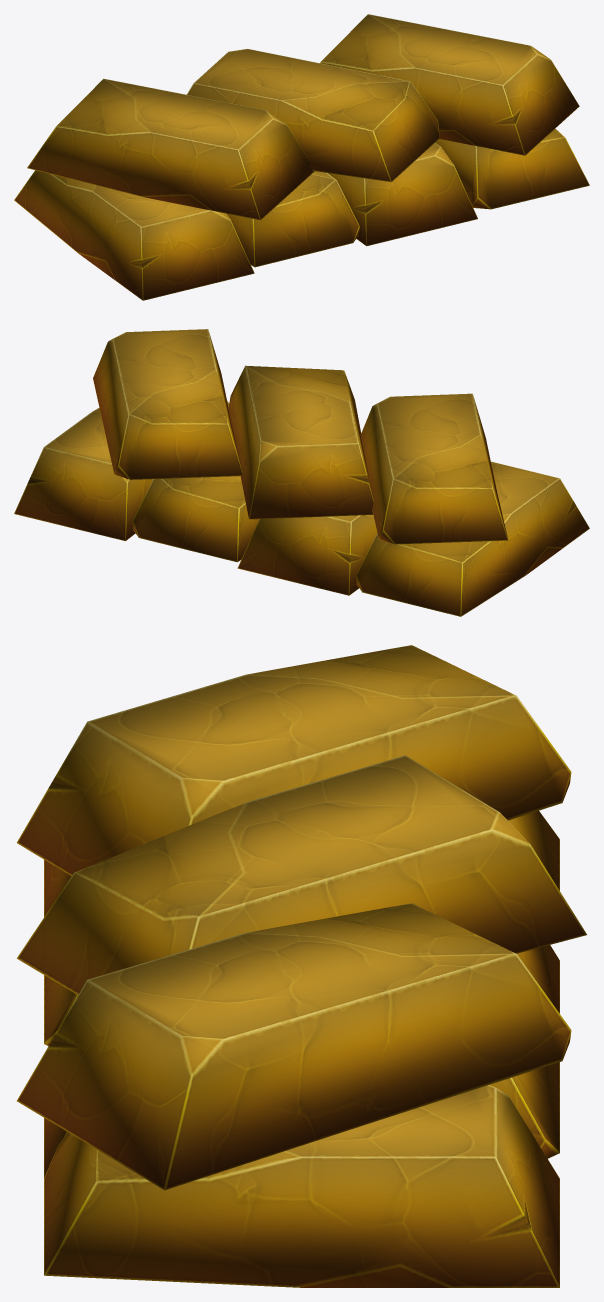
File: Gold-13.fbx
3 views of the same model, one above another, from view 1: azimuth 30°, elevation 25°; view 2: azimuth 150°, elevation 25°; view 3: azimuth 270°, elevation 25° (orthographic). The views are drawn at different scales.
Visible parts, largest first — view 1: Gold-13; view 2: Gold-13; view 3: Gold-13.
Part boxes in pixels (left/top/right/bottom): Gold-13: left=14, top=14, right=589, bottom=300; Gold-13: left=14, top=329, right=589, bottom=616; Gold-13: left=17, top=645, right=586, bottom=1287.
Size of the model in its own units: 0.325 by 0.075 by 0.1659.
Materials: 1 (1 with a texture image).
